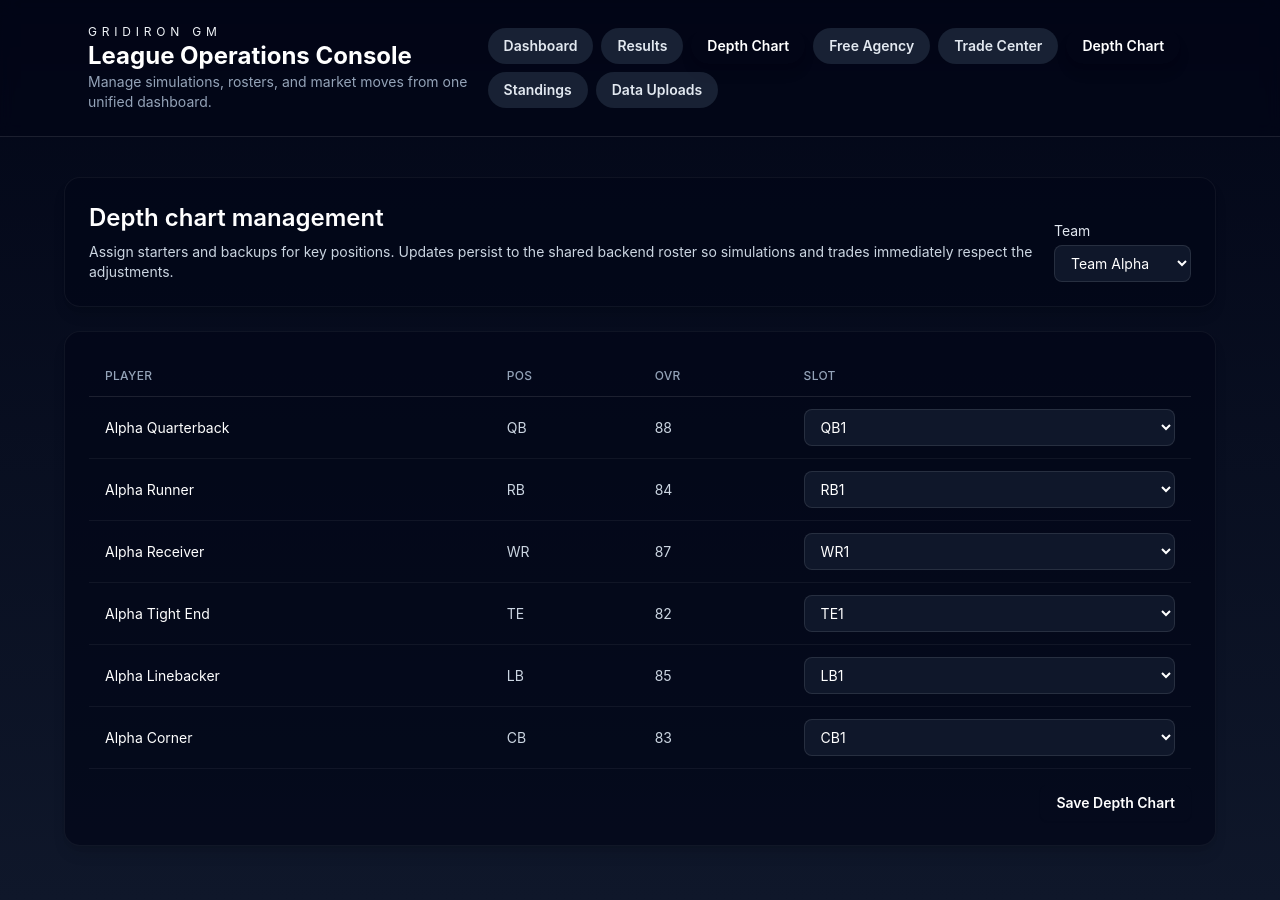
Test case: NFL GM simulator app flows › updates the depth chart and persists the new order
Select "QB2" in the dropdown in the row of "Alpha Quarterback" at (989, 428), box [804,409,1175,446]
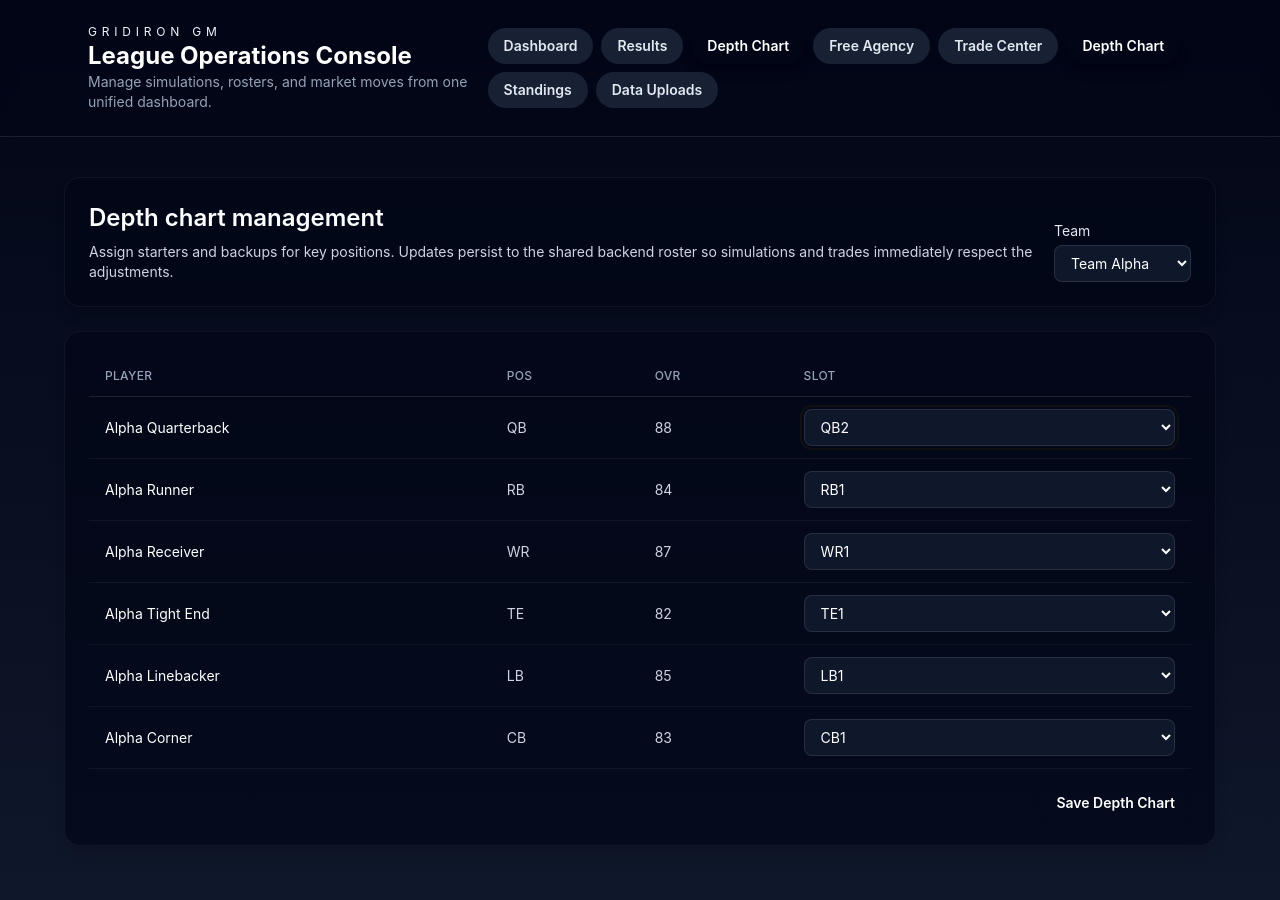
Click the button "Save Depth Chart".
click(1116, 803)  # box [1040,785,1191,821]
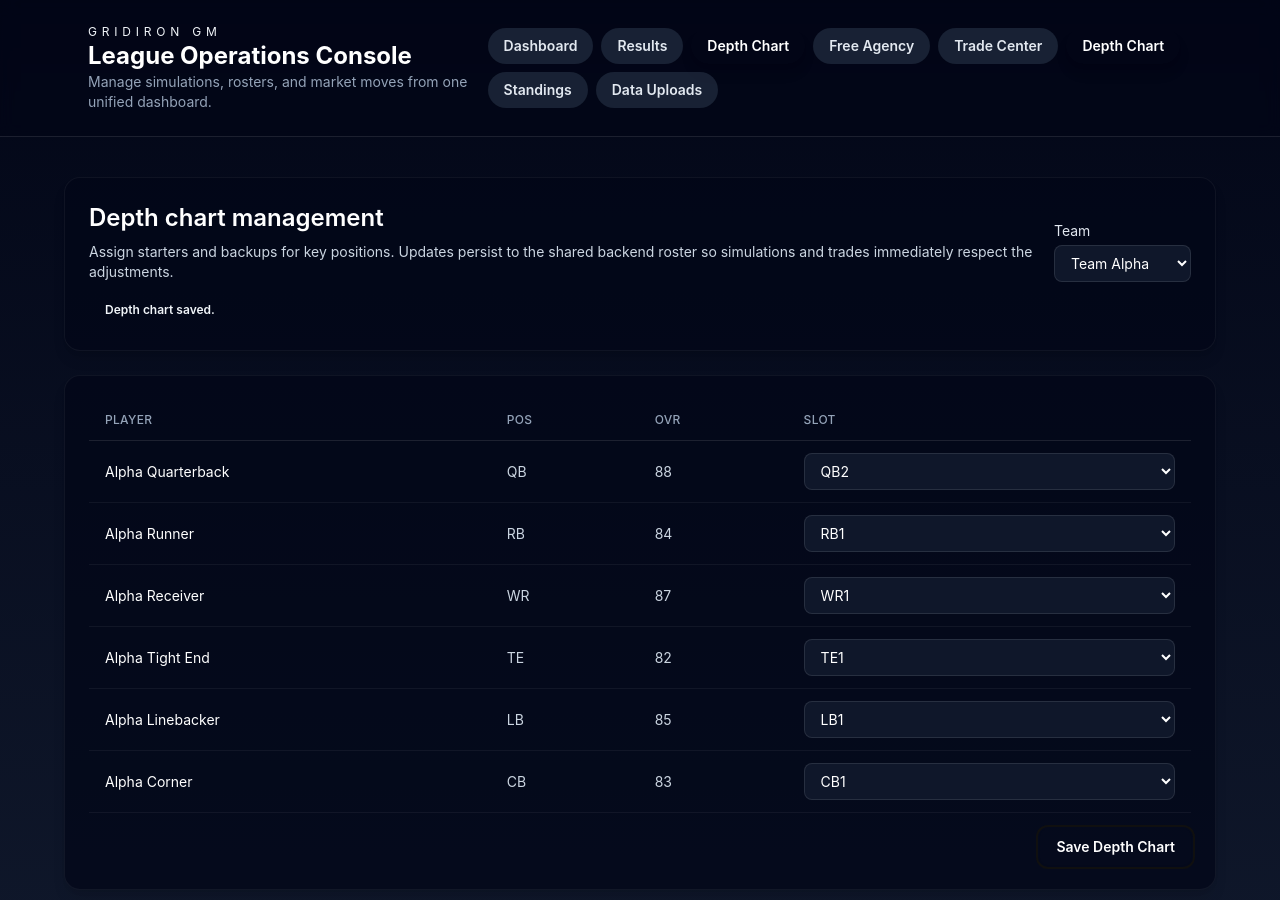
Result: the text "Depth chart saved." is shown at [105,302,215,317]
